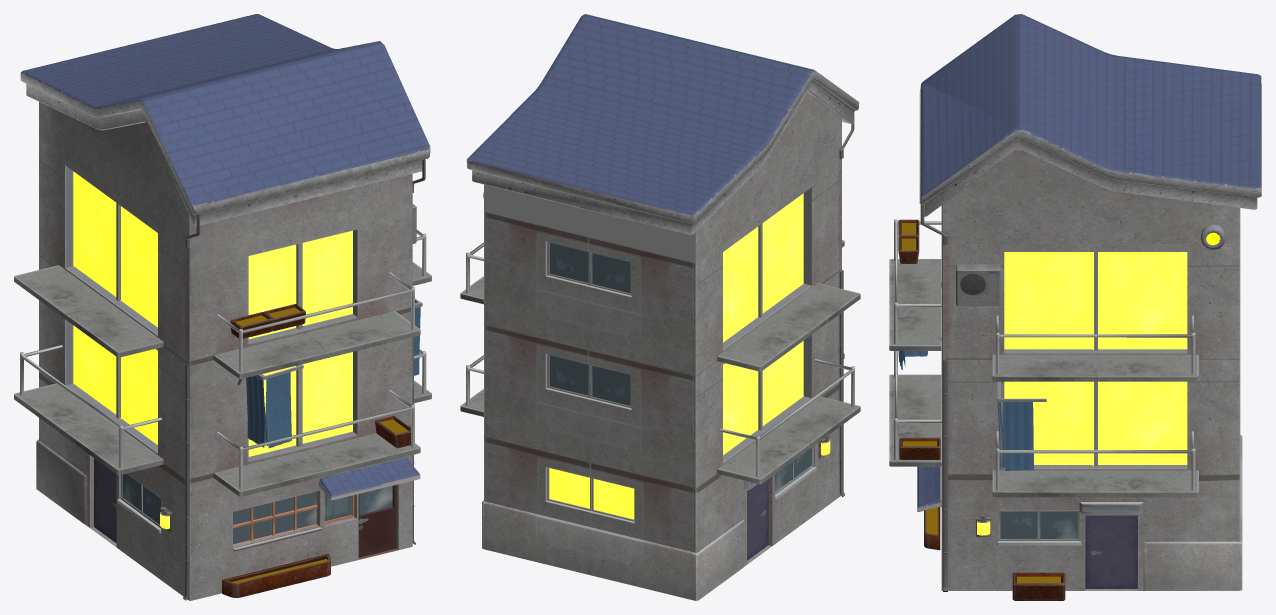
Rendered from Apartment2Floors.fbx.
3 renders of one model, left to right at view 1: azimuth 30°, elevation 25°; view 2: azimuth 150°, elevation 25°; view 3: azimuth 270°, elevation 25°, orthographic. The views are drawn at different scales.
Visible parts, largest first — view 1: Cube; view 2: Cube; view 3: Cube.
Boxes of the visible parts, x1=… form: Cube: x1=14, y1=14, x2=431, y2=600; Cube: x1=460, y1=14, x2=860, y2=600; Cube: x1=889, y1=14, x2=1261, y2=600.
Bounding box in the file's own units: 560 × 806 × 583.
